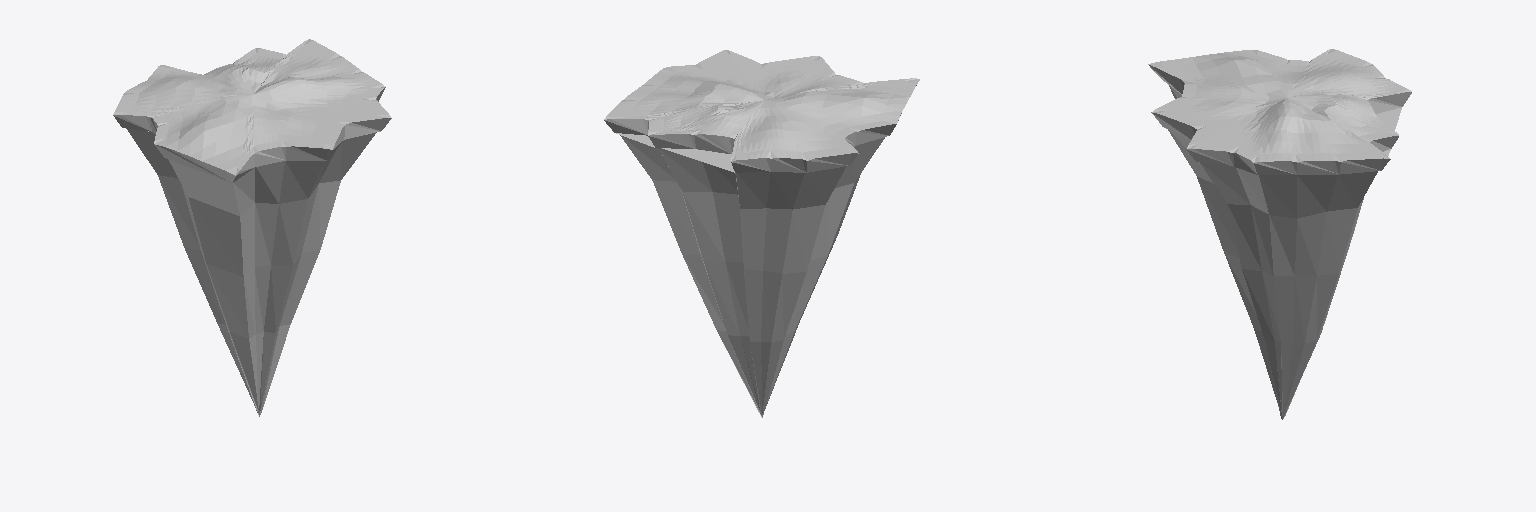
The model's file is islandmountain.obj.
The picture shows the model from 3 angles: view 1: azimuth 30°, elevation 25°; view 2: azimuth 150°, elevation 25°; view 3: azimuth 270°, elevation 25°; orthographic projection.
Parts seen in each view (by area): view 1: Vert.002, Vert.001_Vert.003; view 2: Vert.002, Vert.001_Vert.003; view 3: Vert.001_Vert.003, Vert.002.
Boxes of the visible parts, box(x1,y1,x2,y2) form: Vert.002: box(127, 129, 376, 416); Vert.001_Vert.003: box(113, 39, 391, 182); Vert.002: box(620, 135, 884, 417); Vert.001_Vert.003: box(604, 50, 919, 172); Vert.001_Vert.003: box(1148, 49, 1411, 174); Vert.002: box(1168, 85, 1377, 419).
Bounding box in the file's own units: 28.43 × 37.83 × 27.93.